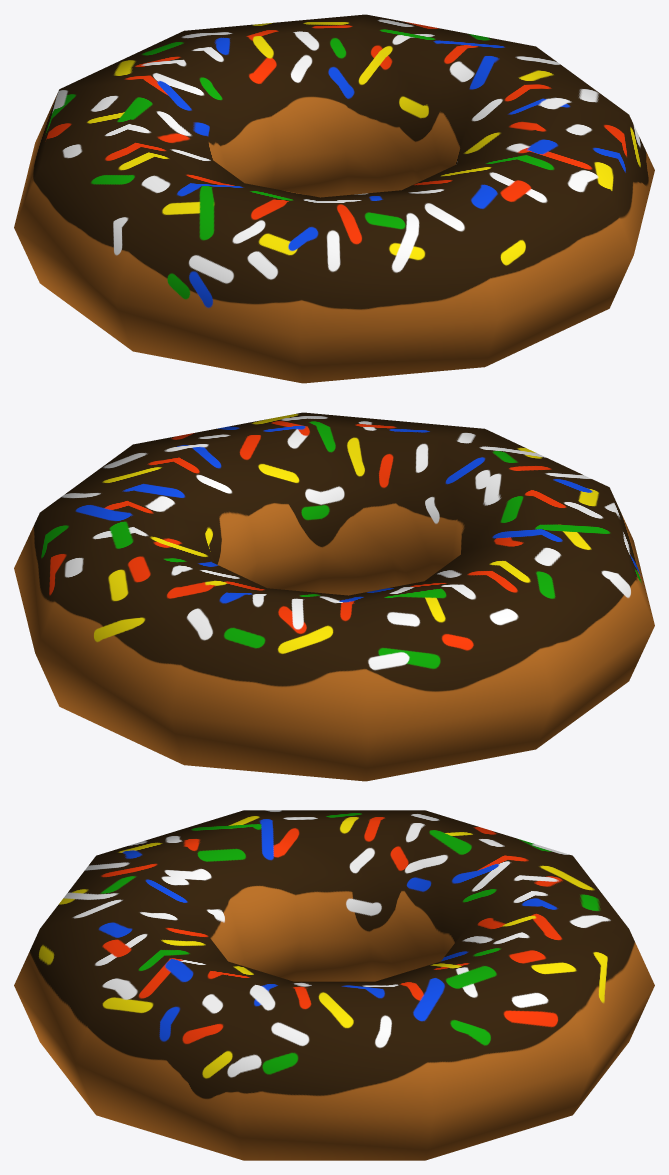
The model's file is Donut.fbx.
3 views of the same model, one above another, from view 1: azimuth 30°, elevation 25°; view 2: azimuth 150°, elevation 25°; view 3: azimuth 270°, elevation 25° (orthographic). The views are drawn at different scales.
Visible parts, largest first — view 1: Donut; view 2: Donut; view 3: Donut.
Boxes of the visible parts, x1,y1,x2,y2 form: Donut: (14,14,654,383); Donut: (14,412,654,781); Donut: (14,810,654,1160).
Bounding box in the file's own units: 3.62 × 1.05 × 3.81.
1 material, 1 textured.
